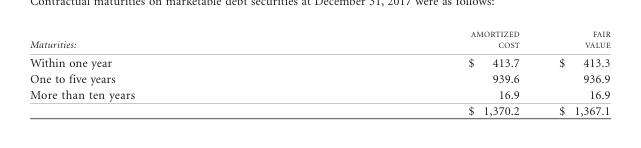table: (29, 29, 609, 117)
table column: (29, 29, 300, 117), (300, 29, 538, 117), (538, 29, 609, 117)
table column header: (29, 29, 609, 52)
table row: (29, 29, 609, 52), (29, 52, 609, 70), (29, 70, 609, 86), (29, 86, 609, 102), (29, 102, 609, 117)
